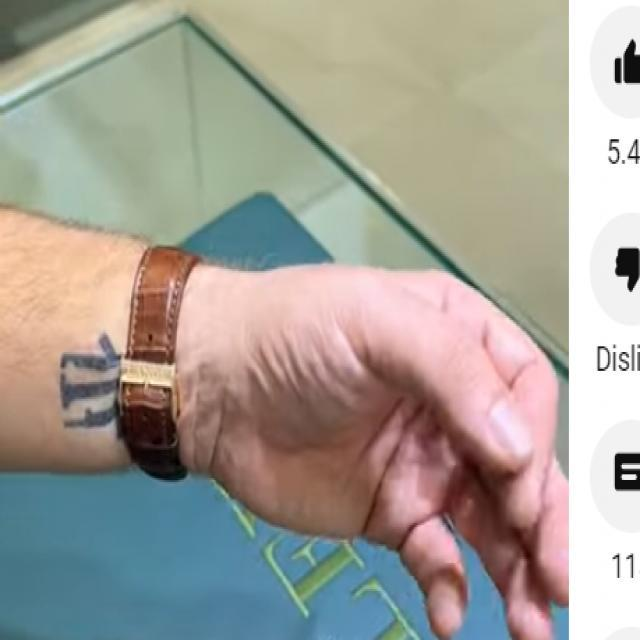Watch: (118, 237, 199, 483)
